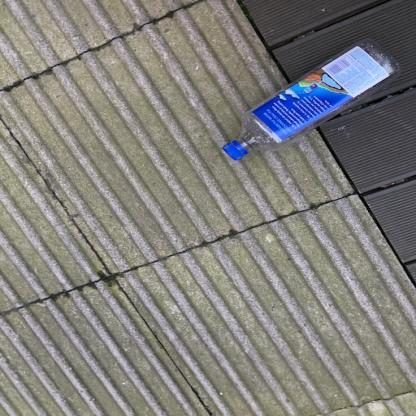trash: (221, 36, 406, 166)
